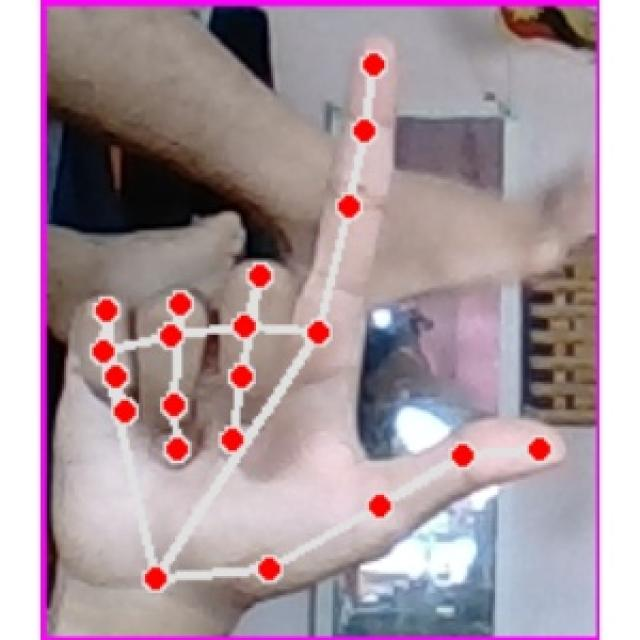L: (60, 39, 581, 607)
